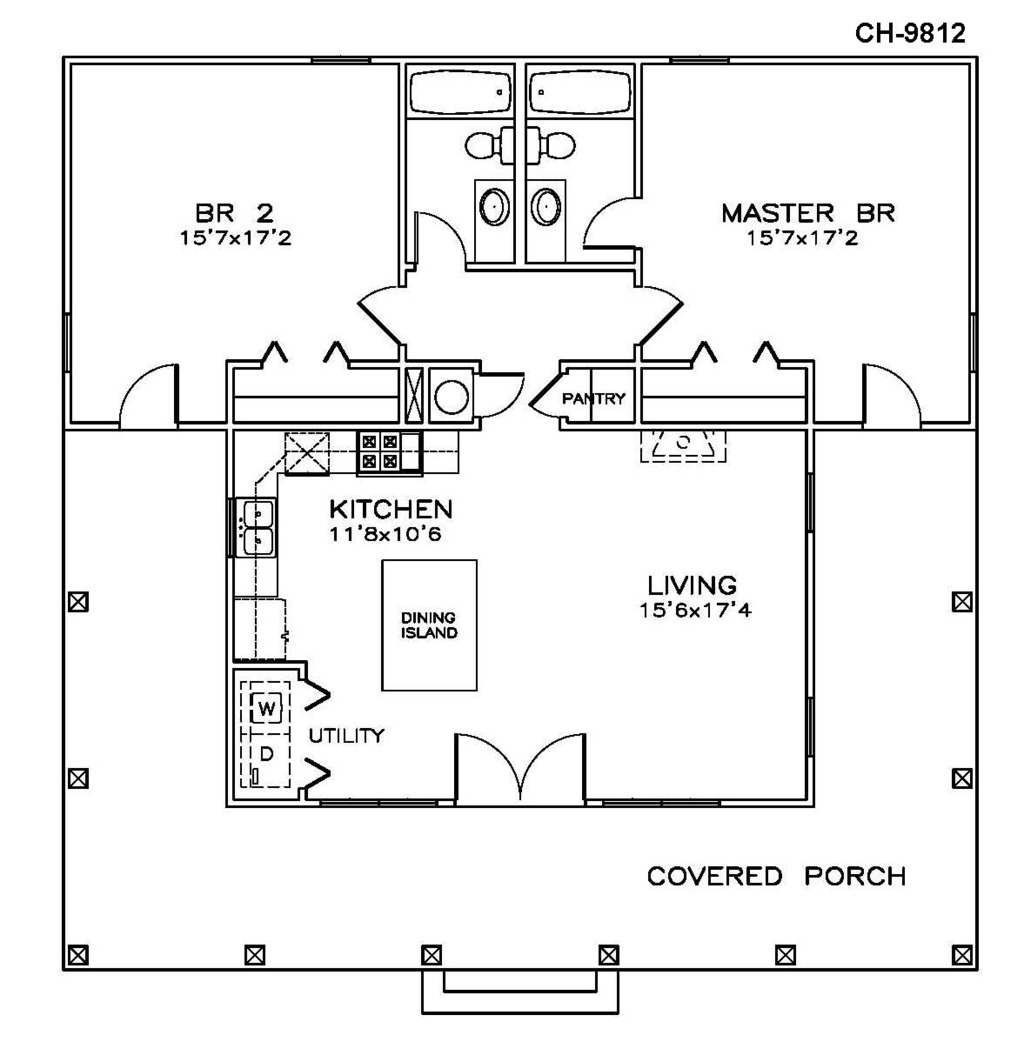door: (445, 727, 605, 807), (118, 356, 192, 432), (863, 361, 932, 430), (353, 282, 422, 348), (573, 192, 640, 254), (419, 210, 476, 269), (474, 368, 530, 426), (637, 287, 687, 347), (526, 366, 571, 426)
kitchen_bar: (237, 433, 463, 497)
large_sink: (451, 119, 511, 176), (526, 119, 574, 172)
small_sink: (474, 182, 519, 234), (530, 187, 568, 240)
tub: (519, 68, 635, 127), (398, 61, 513, 116)
twin_sink: (235, 495, 280, 565)
window: (606, 791, 732, 809), (313, 793, 432, 811), (664, 50, 738, 68), (61, 311, 80, 380)
